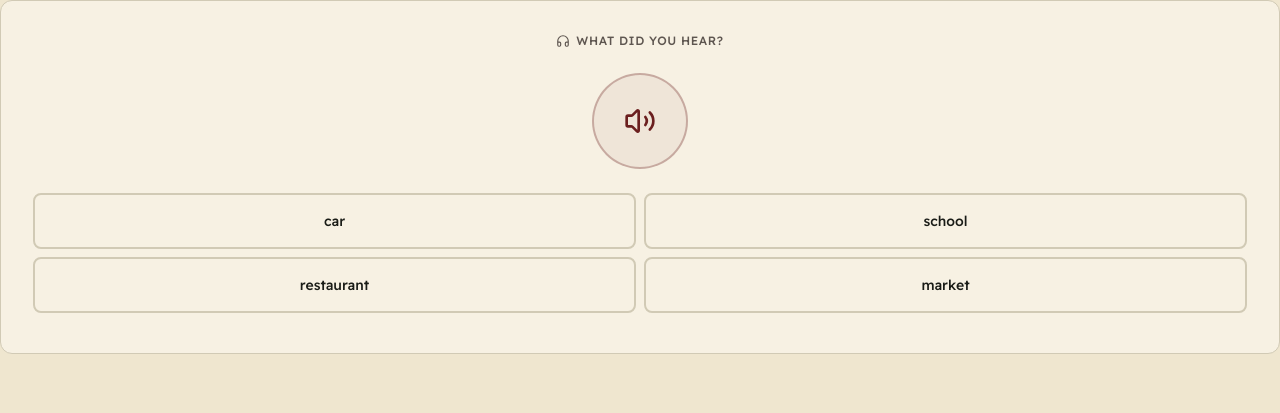
Scenario: the heard question › hides the Arabic until the answer and plays itself once
Expected: the text "سوق" is not shown
Click the radio button labelled "market". click: (946, 285)
box: [644,257,1247,313]
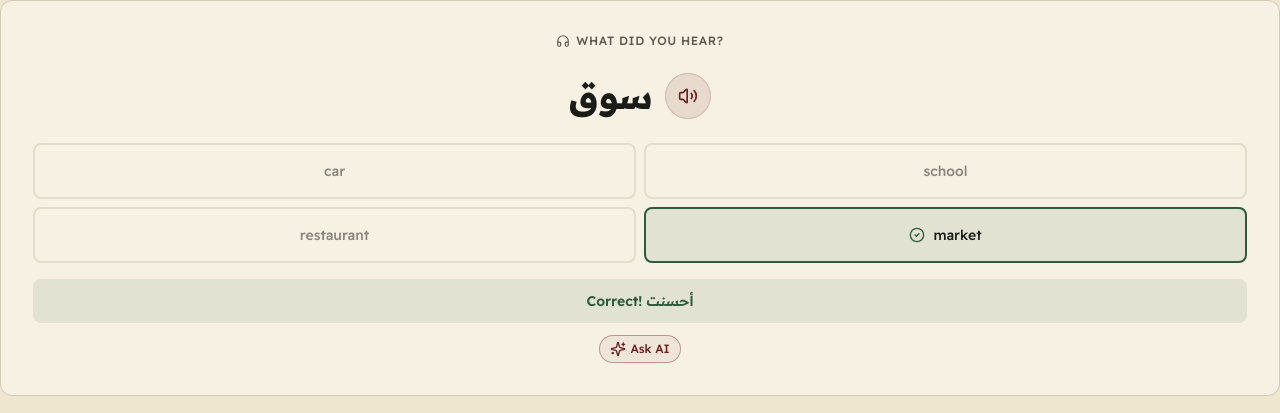
Now the text "سوق" is shown, box [569,76,653,116]
